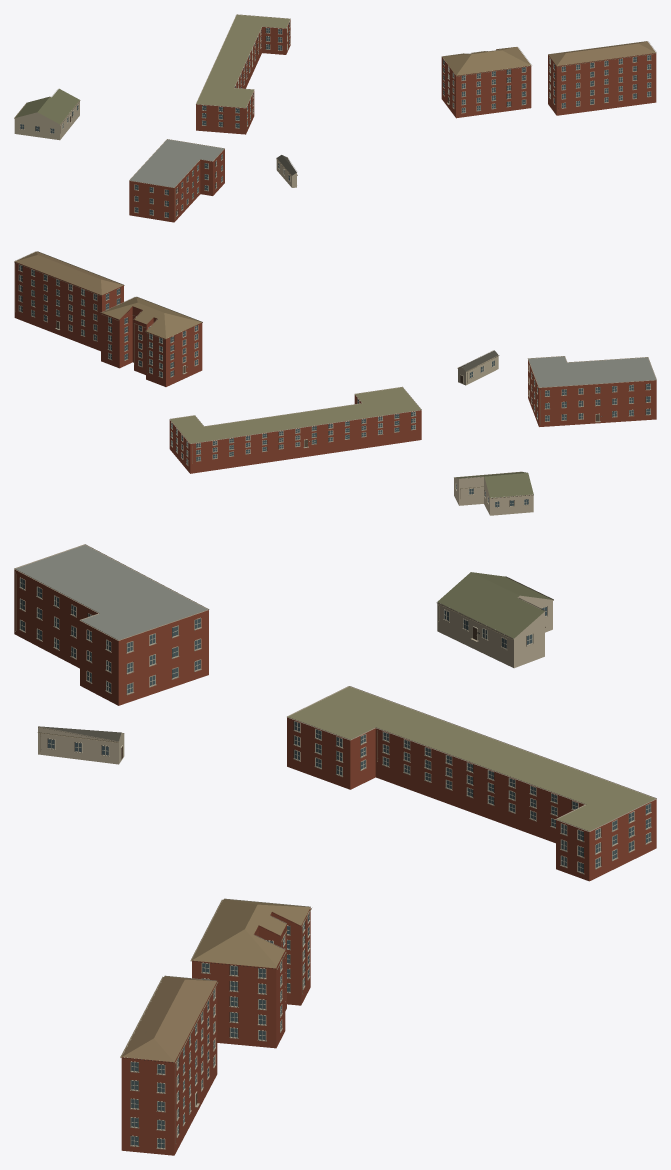
3 renders of one model, top to bottom at view 1: azimuth 30°, elevation 25°; view 2: azimuth 150°, elevation 25°; view 3: azimuth 270°, elevation 25°, orthographic. The views are drawn at different scales.
Visible parts, largest first — view 1: 1_-2_679125115_118, 1_-2_-1940_175; view 2: 1_-2_679125115_118, 1_-2_-1940_175; view 3: 1_-2_679125115_118, 1_-2_-1940_175.
Part boxes in pixels (x1,y1,x2,y2): 1_-2_679125115_118: (14, 14, 656, 222); 1_-2_-1940_175: (14, 100, 296, 187); 1_-2_679125115_118: (14, 251, 656, 507); 1_-2_-1940_175: (454, 355, 533, 515); 1_-2_679125115_118: (14, 544, 656, 1155); 1_-2_-1940_175: (38, 595, 552, 764).
Bounding box in the file's own units: 201 × 21.13 × 109.
